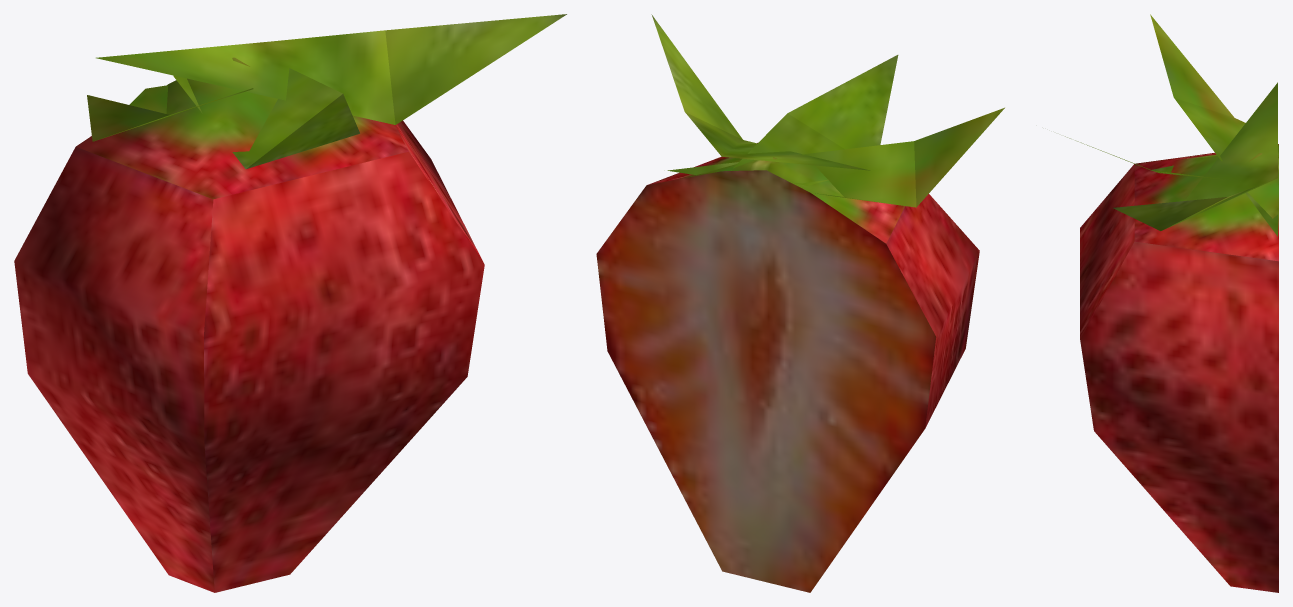
Rendered from Strawberry_01.glb.
3 renders of one model, left to right at view 1: azimuth 30°, elevation 25°; view 2: azimuth 150°, elevation 25°; view 3: azimuth 270°, elevation 25°, orthographic. The views are drawn at different scales.
Parts seen in each view (by area): view 1: Strawberry_01; view 2: Strawberry_01; view 3: Strawberry_01.
Boxes of the visible parts, box(x1,y1,x2,y2) form: Strawberry_01: box(14, 14, 566, 592); Strawberry_01: box(596, 14, 1004, 592); Strawberry_01: box(1065, 14, 1278, 592).
Bounding box in the file's own units: 0.0825 × 0.0994 × 0.0468.
1 material, 1 textured.
